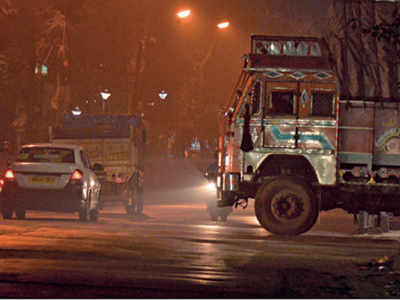car: (3, 145, 100, 222)
truck: (220, 33, 399, 239), (58, 114, 145, 214)
